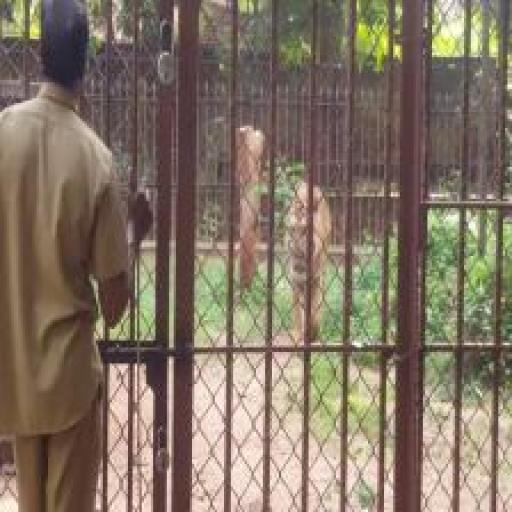Tiger: (217, 73, 349, 384)
